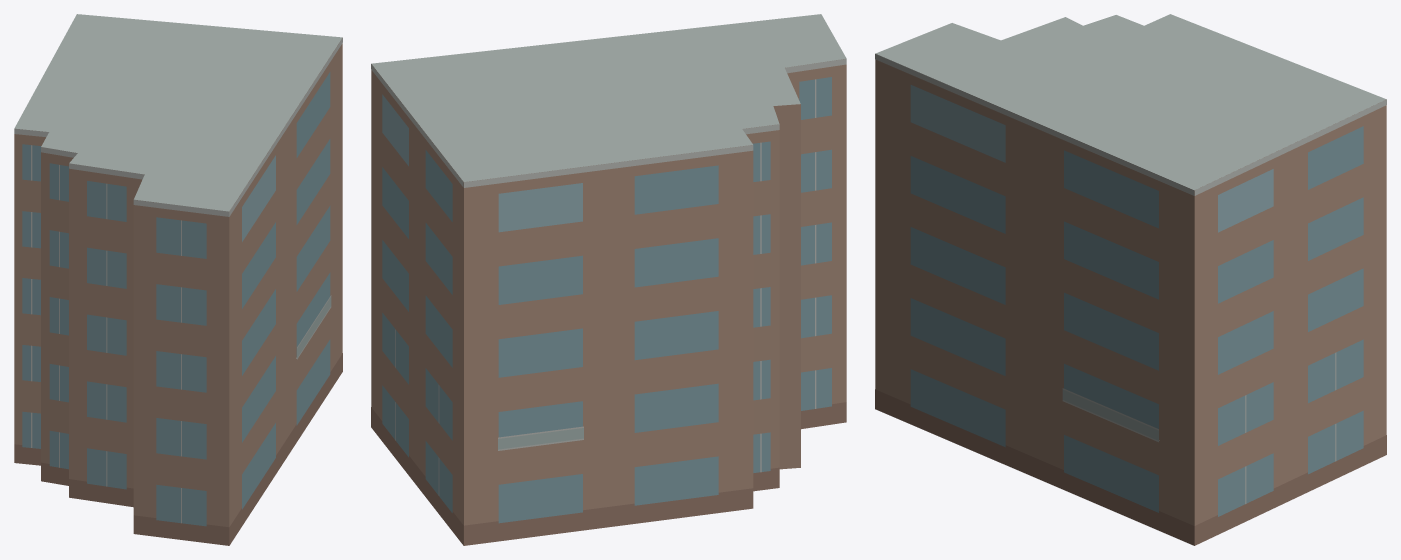
File: survey-upis-32647222.glb
3 views of the same model, side by side, from view 1: azimuth 30°, elevation 25°; view 2: azimuth 150°, elevation 25°; view 3: azimuth 270°, elevation 25° (orthographic). The views are drawn at different scales.
Parts seen in each view (by area): view 1: survey-upis-32647222.tmp; view 2: survey-upis-32647222.tmp; view 3: survey-upis-32647222.tmp.
Part boxes in pixels (x1,y1,x2,y2): survey-upis-32647222.tmp: (14,14,342,545); survey-upis-32647222.tmp: (371,14,846,545); survey-upis-32647222.tmp: (875,14,1386,545).
Bounding box in the file's own units: 16.08 × 15.11 × 19.71.
